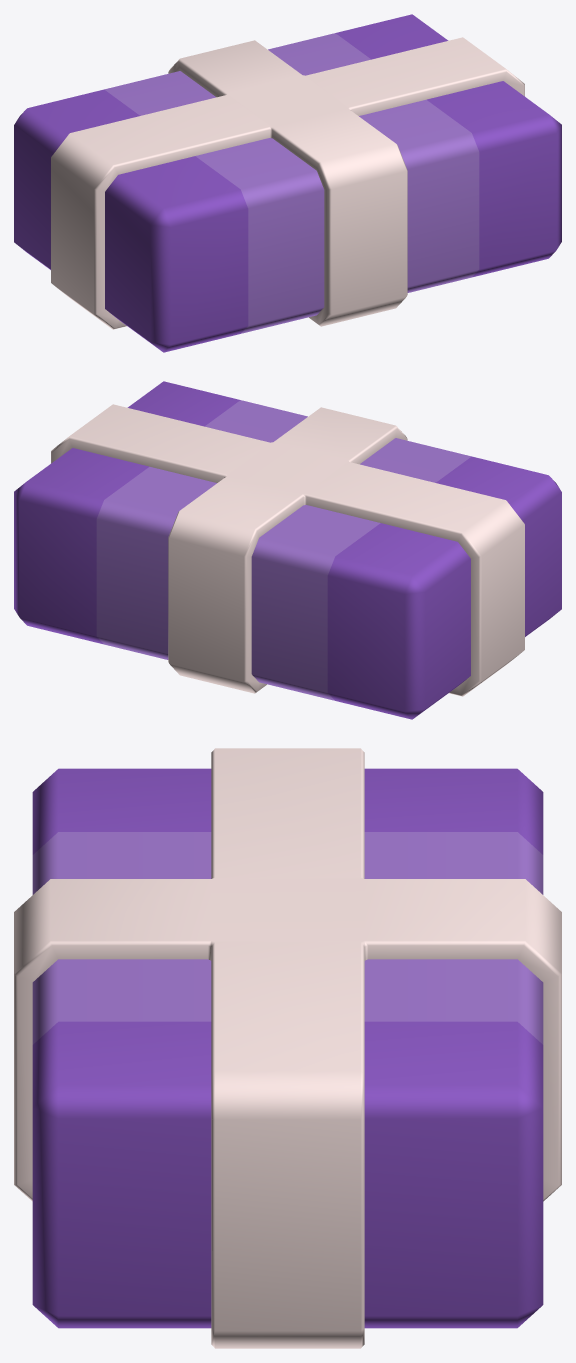
File: Public_6_Present_2.glb
The picture shows the model from 3 angles, top to bottom: view 1: azimuth 30°, elevation 25°; view 2: azimuth 150°, elevation 25°; view 3: azimuth 270°, elevation 25°; orthographic projection. The views are drawn at different scales.
Parts seen in each view (by area): view 1: Public_6_Present_2; view 2: Public_6_Present_2; view 3: Public_6_Present_2.
Part boxes in pixels (left/top/right/bottom): Public_6_Present_2: left=14, top=14, right=561, bottom=352; Public_6_Present_2: left=14, top=381, right=561, bottom=719; Public_6_Present_2: left=14, top=748, right=561, bottom=1348.
Size of the model in its own units: 1.63 by 0.5973 by 1.07.
Materials: 1 (1 with a texture image).
